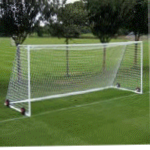goals: (5, 39, 145, 119)
